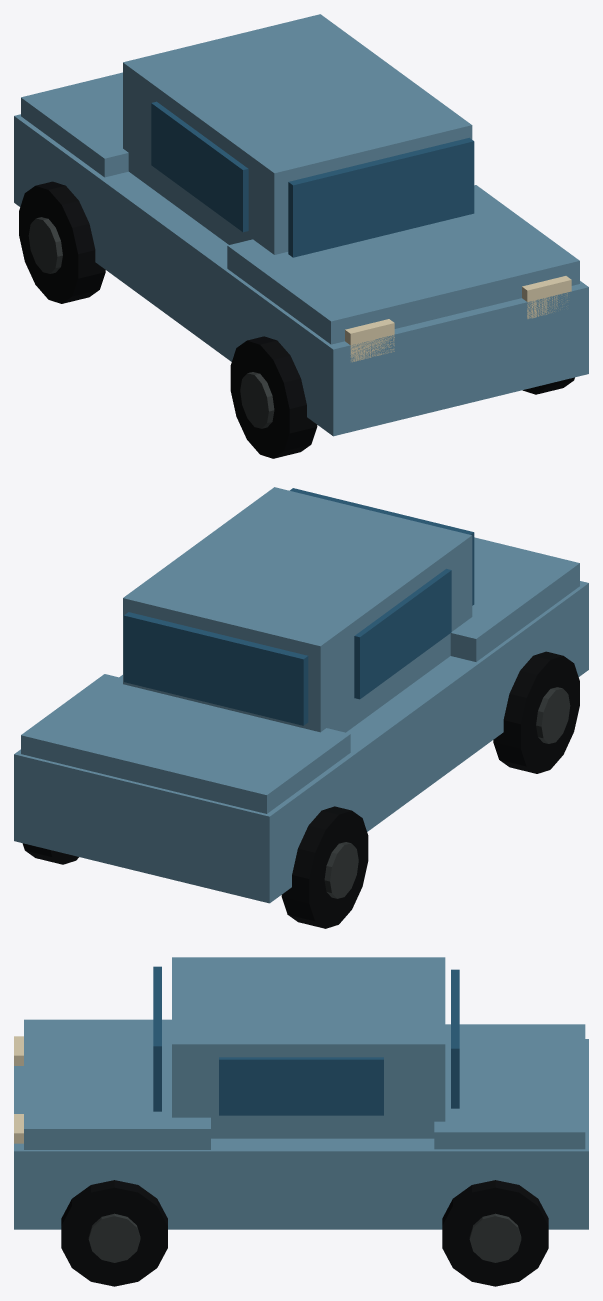
The model's file is Vehicle_Sedan.obj.
3 views of the same model, one above another, from view 1: azimuth 30°, elevation 25°; view 2: azimuth 150°, elevation 25°; view 3: azimuth 270°, elevation 25° (orthographic). The views are drawn at different scales.
Visible parts, largest first — view 1: Body, Cabin, Hood, Windshield, Tire, Trunk, SideGlass, Hub, Headlight; view 2: Body, Cabin, Trunk, RearGlass, Tire, Hood, SideGlass, Hub, Windshield; view 3: Body, Cabin, Hood, Trunk, Tire, SideGlass, Hub, Windshield, RearGlass, Headlight.
Boxes of the visible parts, <box> form: Body: <box>14,114,588,436</box>; Cabin: <box>123,14,472,254</box>; Hood: <box>227,185,579,344</box>; Windshield: <box>288,137,474,257</box>; Tire: <box>19,181,574,458</box>; Trunk: <box>21,72,128,177</box>; SideGlass: <box>151,101,248,232</box>; Hub: <box>28,217,274,428</box>; Headlight: <box>345,276,571,362</box>; Body: <box>14,581,588,903</box>; Cabin: <box>123,487,472,732</box>; Trunk: <box>21,674,350,813</box>; RearGlass: <box>124,612,308,725</box>; Tire: <box>22,651,579,928</box>; Hood: <box>450,537,579,661</box>; SideGlass: <box>354,568,451,699</box>; Hub: <box>324,687,570,898</box>; Windshield: <box>290,488,474,605</box>; Body: <box>14,1039,588,1229</box>; Cabin: <box>172,957,445,1138</box>; Hood: <box>24,1019,210,1149</box>; Trunk: <box>434,1024,585,1149</box>; Tire: <box>61,1180,548,1286</box>; SideGlass: <box>219,1057,383,1115</box>; Hub: <box>88,1213,521,1262</box>; Windshield: <box>153,966,161,1111</box>; RearGlass: <box>451,969,459,1108</box>; Headlight: <box>14,1036,23,1143</box>.
Size of the model in its own units: 2.18 by 1.71 by 4.
